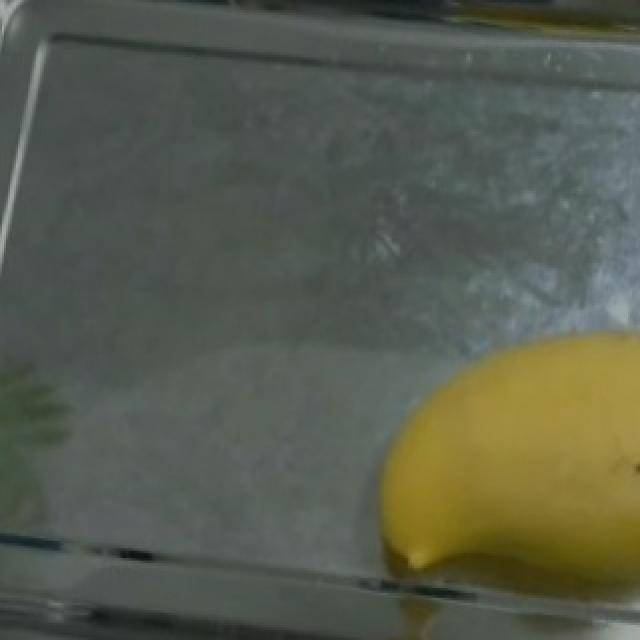fruit: (348, 292, 640, 632)
